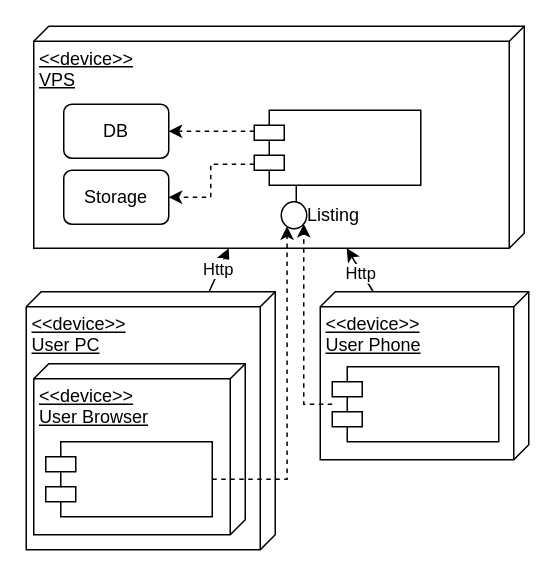
The diagram is 555 pixels wide and 576 high, and some of its shapes have lost their labels. Each missing label, with the centre of its shape:
"<<artifact>> HTML, JS" belongs at (128,478).
"<<artifact>> Mobile App" belongs at (415,403).
"<<artifact>> Web Application" belongs at (337,147).
